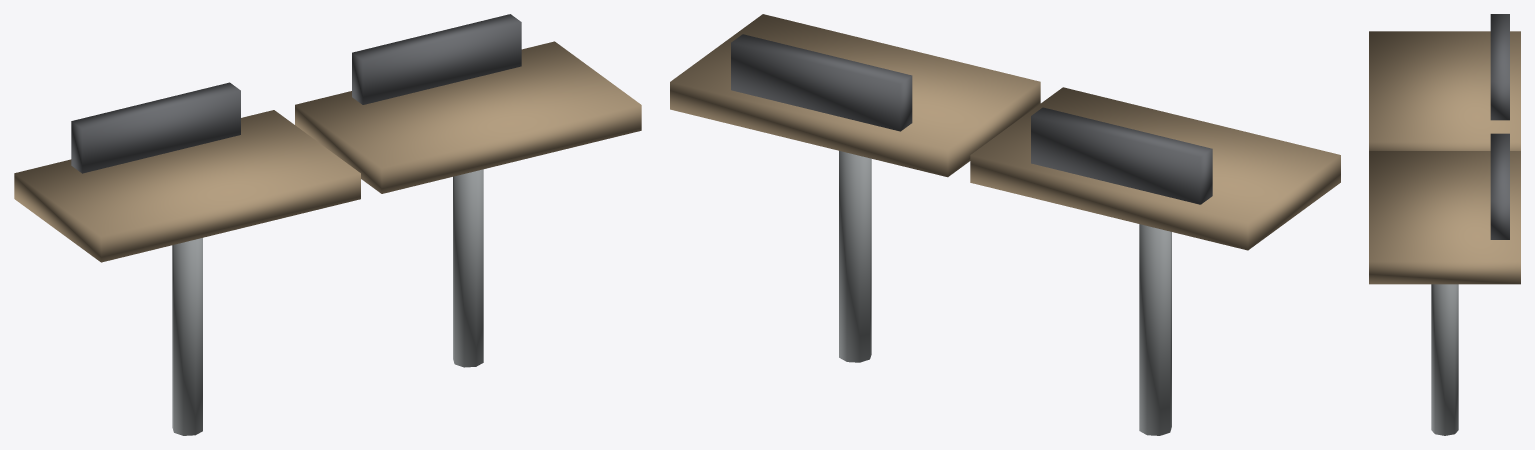
File: deposit_desk__cluster.glb
3 views of the same model, side by side, from view 1: azimuth 30°, elevation 25°; view 2: azimuth 150°, elevation 25°; view 3: azimuth 270°, elevation 25° (orthographic). The views are drawn at different scales.
Visible parts, largest first — view 1: world; view 2: world; view 3: world.
Part boxes in pixels (x1,y1,x2,y2): world: (14,14,641,435); world: (670,14,1340,435); world: (1369,14,1520,435).
Size of the model in its own units: 1.98 by 1.05 by 0.55.
